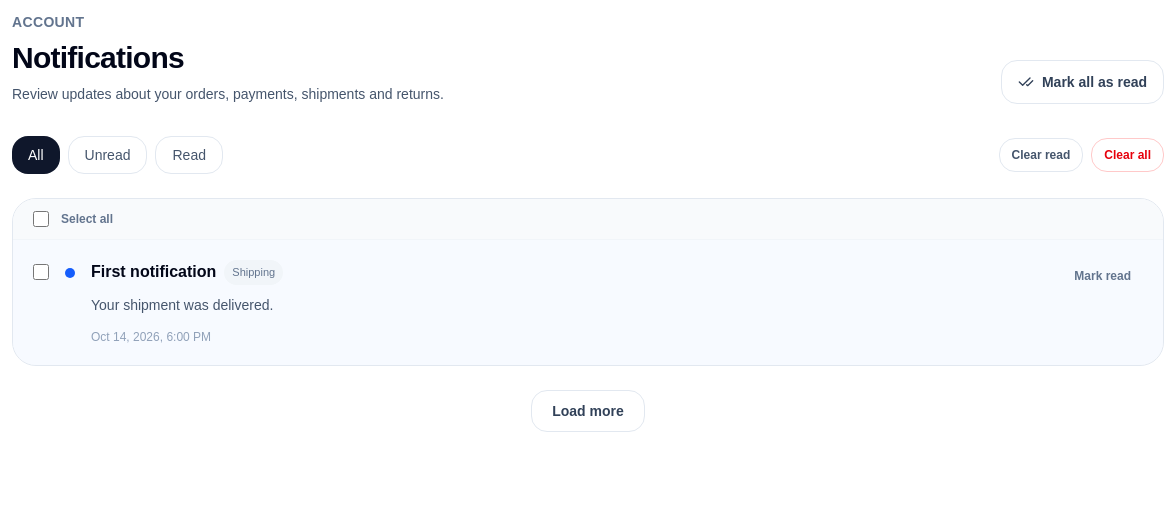
NotificationCenter › loads more notifications and appends the next page
Expected: the heading "First notification" is shown, [91, 260, 216, 284]
Click the button "Load more": click(588, 410) [531, 390, 645, 432]
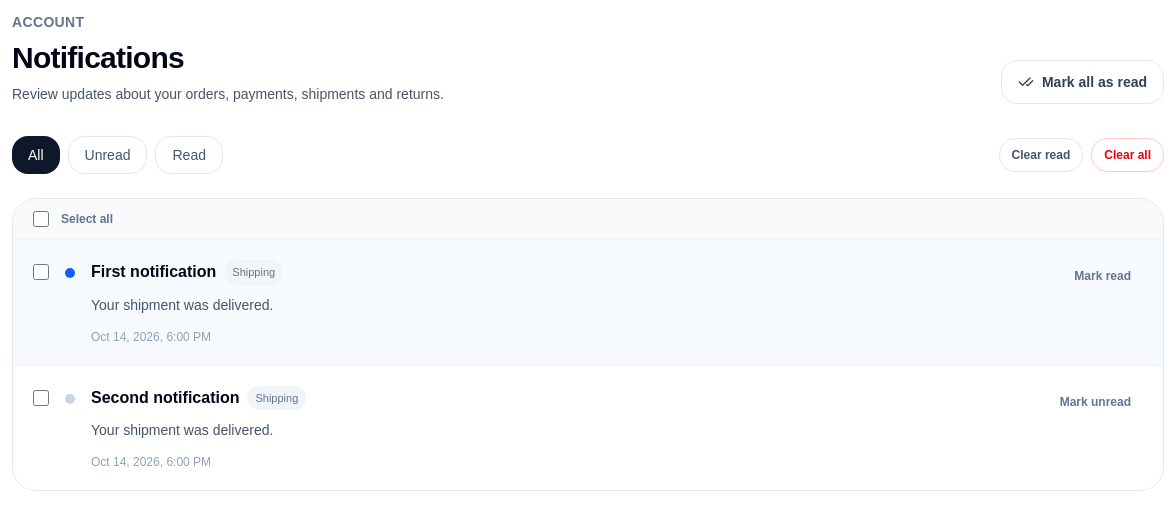
Expected: the heading "First notification" is shown, [91, 260, 216, 284]
Expected: the heading "Second notification" is shown, [91, 386, 240, 410]
Expected: the button "Load more" is gone
